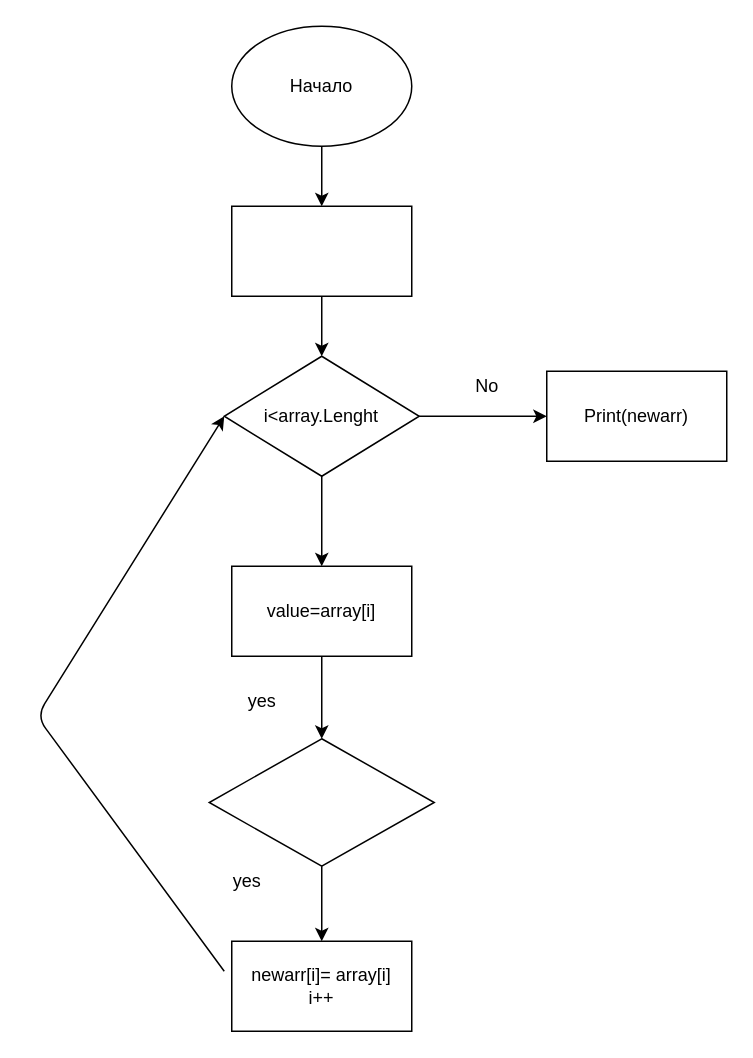
This 753x1058 diagram has some shape labels left out. The centre of each missing label's shape, as x and y in pixels:
"string [] newarr = new string[array.Lenght] var value = строчка i =0, n=3" belongs at pixel 321 250.
"value.Lenght <= n" belongs at pixel 321 801.
